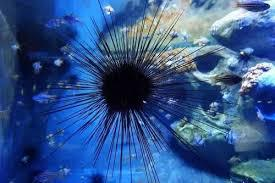urchin: (54, 22, 214, 173)
